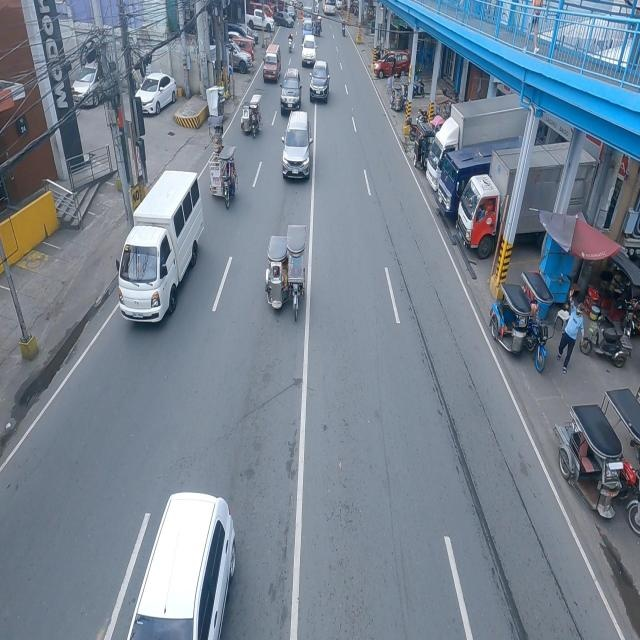Van: (118, 171, 200, 326)
